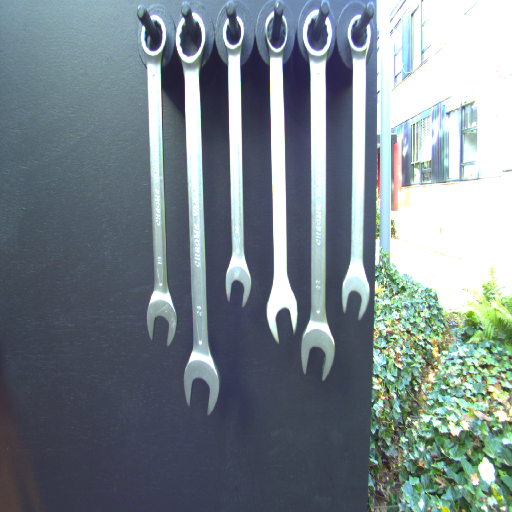bottom: (179, 349, 224, 418), (299, 322, 337, 384), (143, 288, 179, 349), (265, 280, 299, 344), (339, 267, 370, 322), (224, 257, 252, 308)
top: (174, 13, 212, 66), (301, 7, 334, 58), (138, 13, 172, 62), (218, 16, 252, 57), (262, 9, 290, 55), (346, 13, 373, 58)
